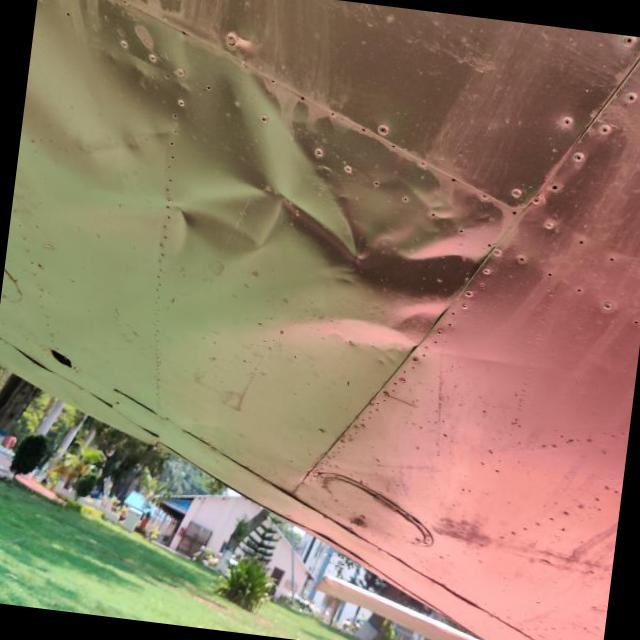Dent: (162, 42, 511, 352)
